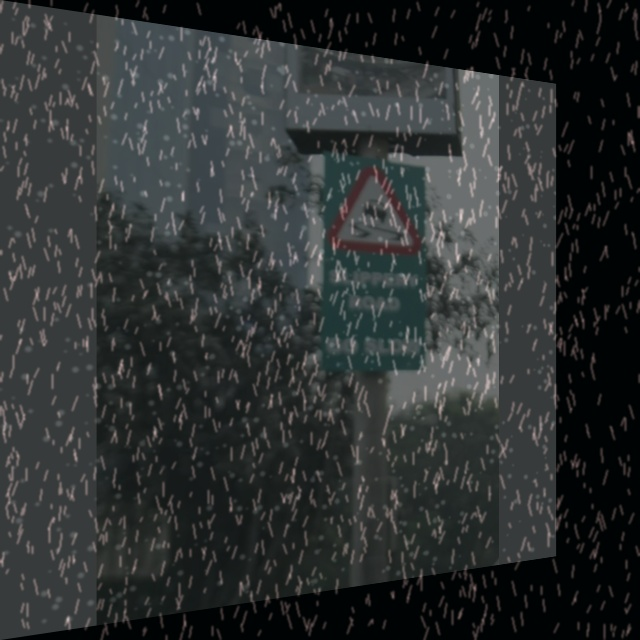Slippery_Road: (326, 164, 421, 255)
